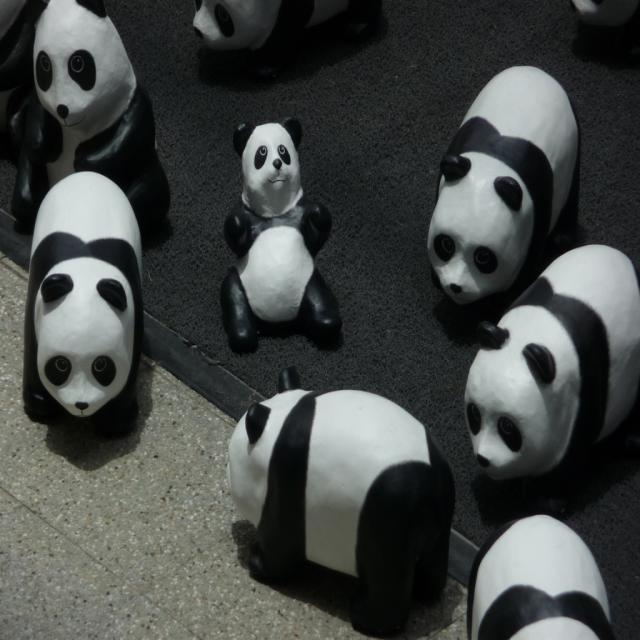panda: (220, 363, 457, 634), (462, 240, 640, 478), (424, 65, 579, 313), (8, 0, 170, 228), (16, 161, 143, 426), (222, 117, 340, 349), (466, 509, 617, 639), (192, 0, 321, 53)
